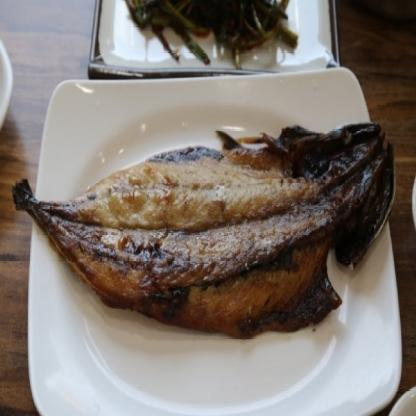Peixe: (0, 95, 402, 338)
